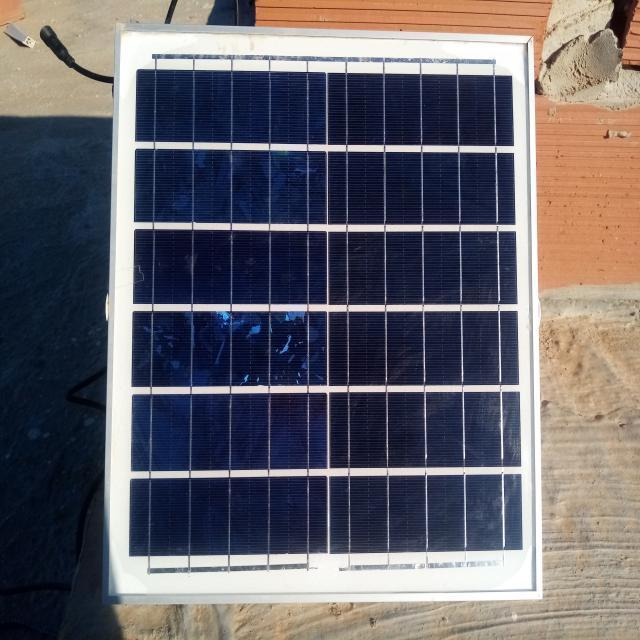Normal Solar Panel: (104, 24, 542, 600)
